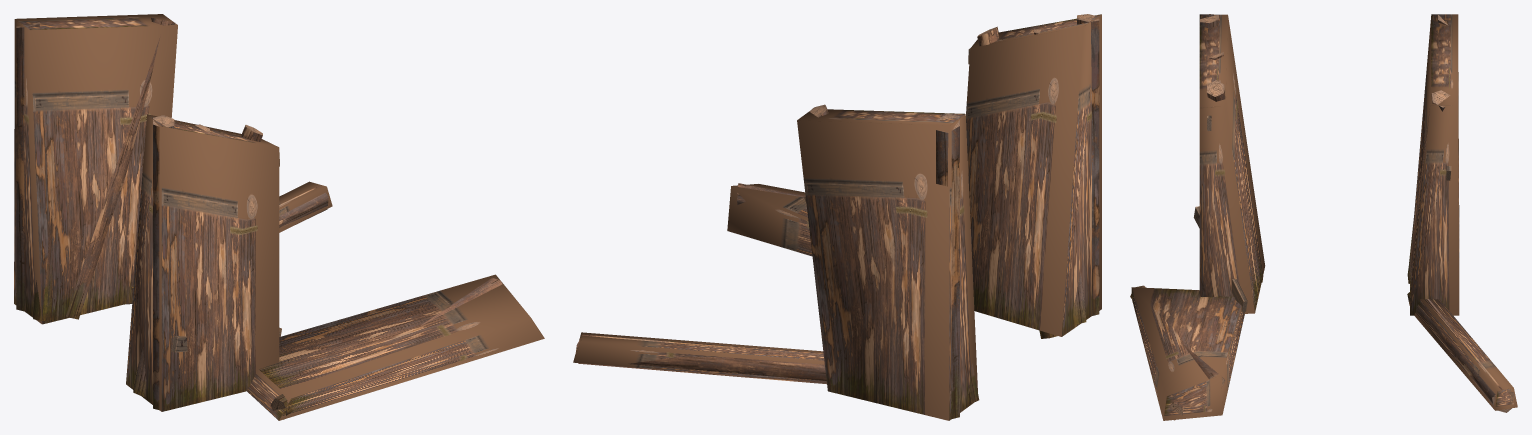
Rendered from fence_log_4m_broken.fbx.
3 views of the same model, side by side, from view 1: azimuth 30°, elevation 25°; view 2: azimuth 150°, elevation 25°; view 3: azimuth 270°, elevation 25° (orthographic). The views are drawn at different scales.
Visible parts, largest first — view 1: fence_log_4m_broken_COL, fence_log_4m_broken; view 2: fence_log_4m_broken_COL, fence_log_4m_broken; view 3: fence_log_4m_broken_COL, fence_log_4m_broken.
Part boxes in pixels (bbox=[...]): fence_log_4m_broken_COL: bbox=[14, 14, 544, 420]; fence_log_4m_broken: bbox=[16, 17, 502, 419]; fence_log_4m_broken_COL: bbox=[573, 14, 1101, 420]; fence_log_4m_broken: bbox=[575, 14, 1099, 418]; fence_log_4m_broken_COL: bbox=[1131, 14, 1517, 420]; fence_log_4m_broken: bbox=[1130, 14, 1515, 420].
Size of the model in its own units: 581 by 446 by 600.
